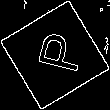P_W: (26, 31, 84, 79)
